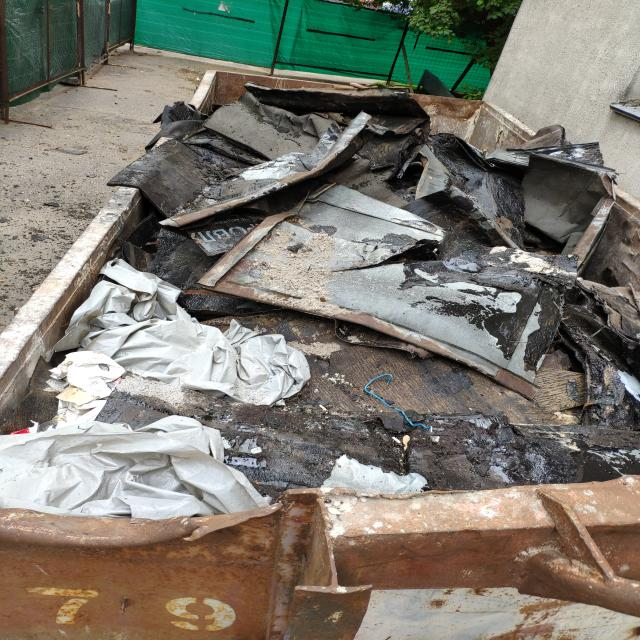entulho: (208, 210, 574, 402), (150, 114, 379, 229), (0, 413, 272, 504), (65, 263, 241, 399), (520, 150, 640, 279), (393, 130, 528, 229), (239, 78, 440, 137), (233, 328, 311, 405), (320, 457, 430, 497)
